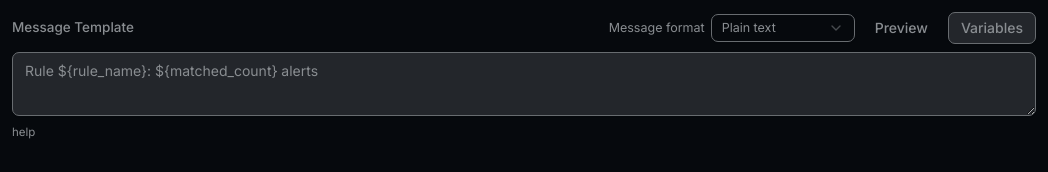
Test: TemplateEditor — preview › renders the template with sample values instead of raw variables
The image size is (1048, 172).
Click the button "Preview": (901,28) [863, 12, 940, 44]
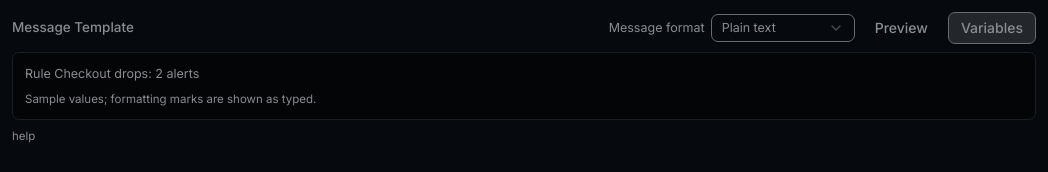
Result: the element named "Message Template preview" shows "Rule Checkout drops: 2 alerts" at [25, 66, 199, 81]
